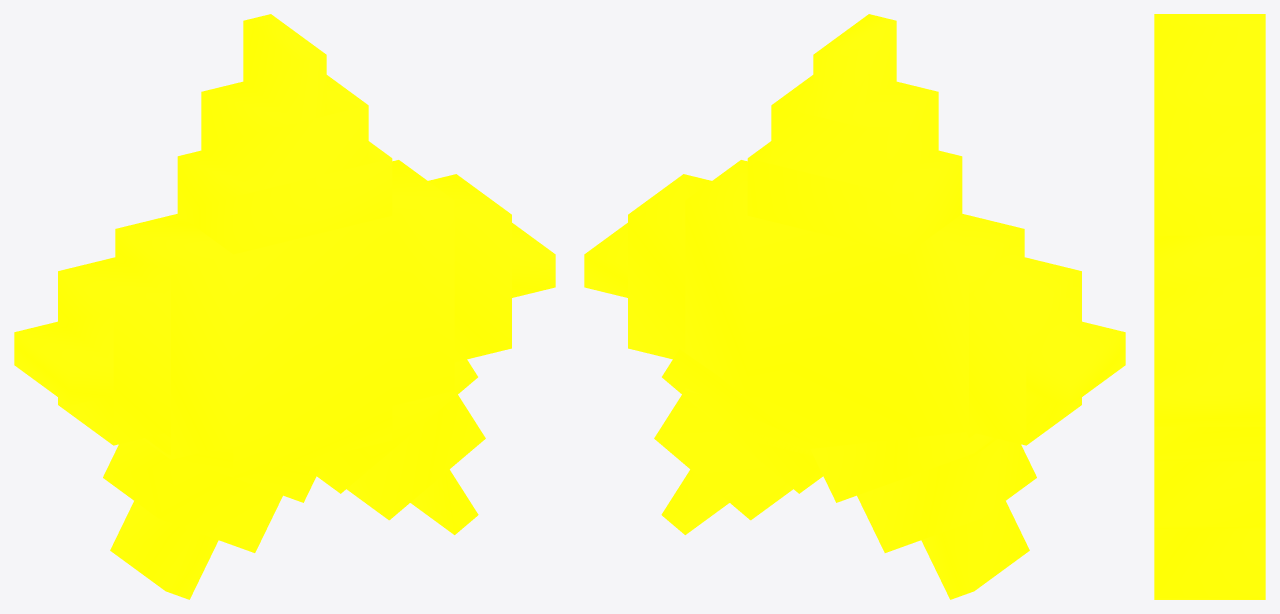
File: BGN-STAR.fbx
3 views of the same model, side by side, from view 1: azimuth 30°, elevation 25°; view 2: azimuth 150°, elevation 25°; view 3: azimuth 270°, elevation 25° (orthographic).
Parts seen in each view (by area): view 1: BGN_STAR; view 2: BGN_STAR; view 3: BGN_STAR.
Boxes of the visible parts, x1,y1,x2,y2 form: BGN_STAR: (14, 14, 555, 599); BGN_STAR: (584, 14, 1125, 599); BGN_STAR: (1154, 14, 1265, 599).
Size of the model in its own units: 89.22 by 89.82 by 17.71.
